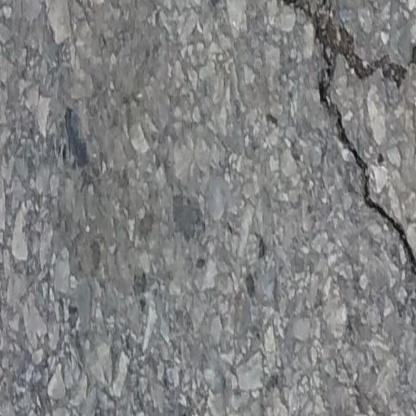Cracks: (252, 0, 416, 324)
